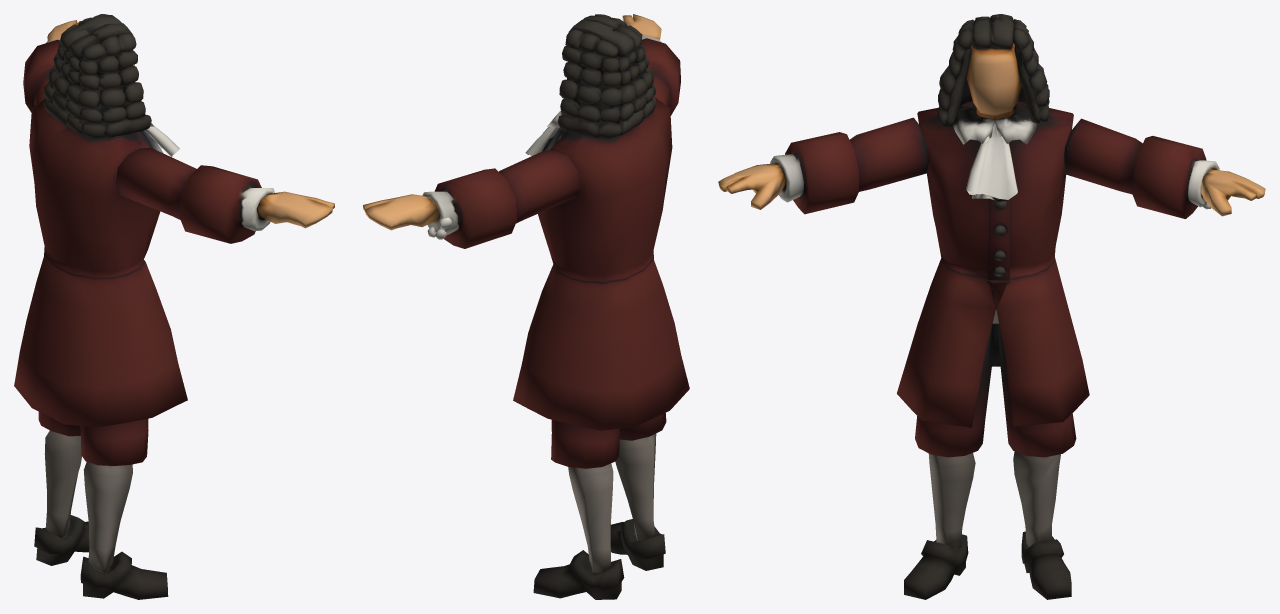
Rendered from char_newton.glb.
The picture shows the model from 3 angles, left to right: view 1: azimuth 30°, elevation 25°; view 2: azimuth 150°, elevation 25°; view 3: azimuth 270°, elevation 25°; orthographic projection. The views are drawn at different scales.
Visible parts, largest first — view 1: tripo_node_60bcebdd-426d-457c-9a6b-676cb0a6b0c7; view 2: tripo_node_60bcebdd-426d-457c-9a6b-676cb0a6b0c7; view 3: tripo_node_60bcebdd-426d-457c-9a6b-676cb0a6b0c7.
Boxes of the visible parts, bbox=[...] form: tripo_node_60bcebdd-426d-457c-9a6b-676cb0a6b0c7: bbox=[14, 14, 334, 599]; tripo_node_60bcebdd-426d-457c-9a6b-676cb0a6b0c7: bbox=[363, 14, 689, 599]; tripo_node_60bcebdd-426d-457c-9a6b-676cb0a6b0c7: bbox=[718, 14, 1265, 599].
Size of the model in its own units: 0.3457 by 0.998 by 0.8809.
Materials: 1 (1 with a texture image).
